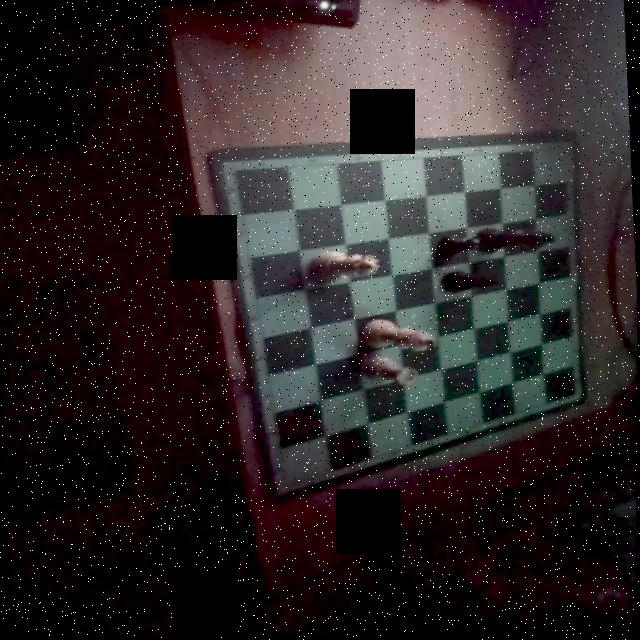chess-table-corners: (221, 162, 247, 183), (564, 386, 590, 406), (275, 477, 298, 498), (556, 140, 579, 160)
